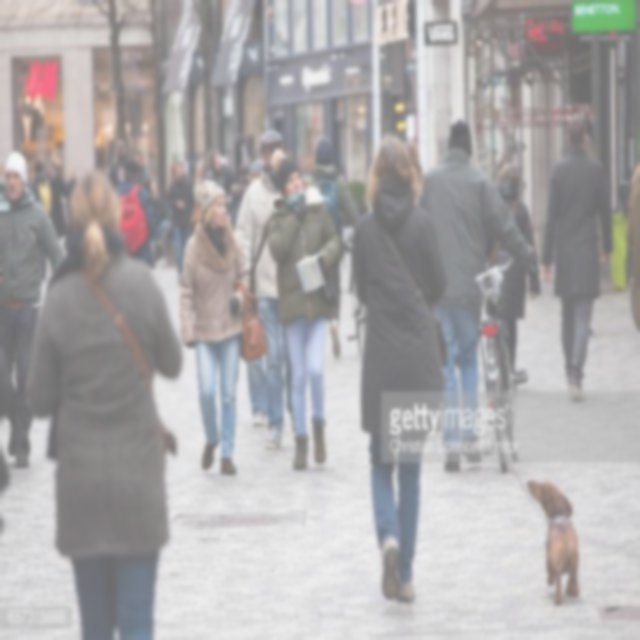pessoa: (24, 167, 183, 638), (402, 114, 536, 473), (352, 132, 449, 604), (19, 146, 368, 247), (176, 178, 268, 478), (261, 146, 341, 474), (538, 113, 616, 403), (0, 148, 66, 470), (232, 127, 295, 452), (484, 162, 542, 400), (301, 135, 359, 361), (113, 157, 158, 267), (165, 157, 195, 287), (621, 148, 639, 340), (11, 68, 43, 152), (406, 134, 426, 200), (34, 243, 60, 287), (248, 157, 264, 185)
